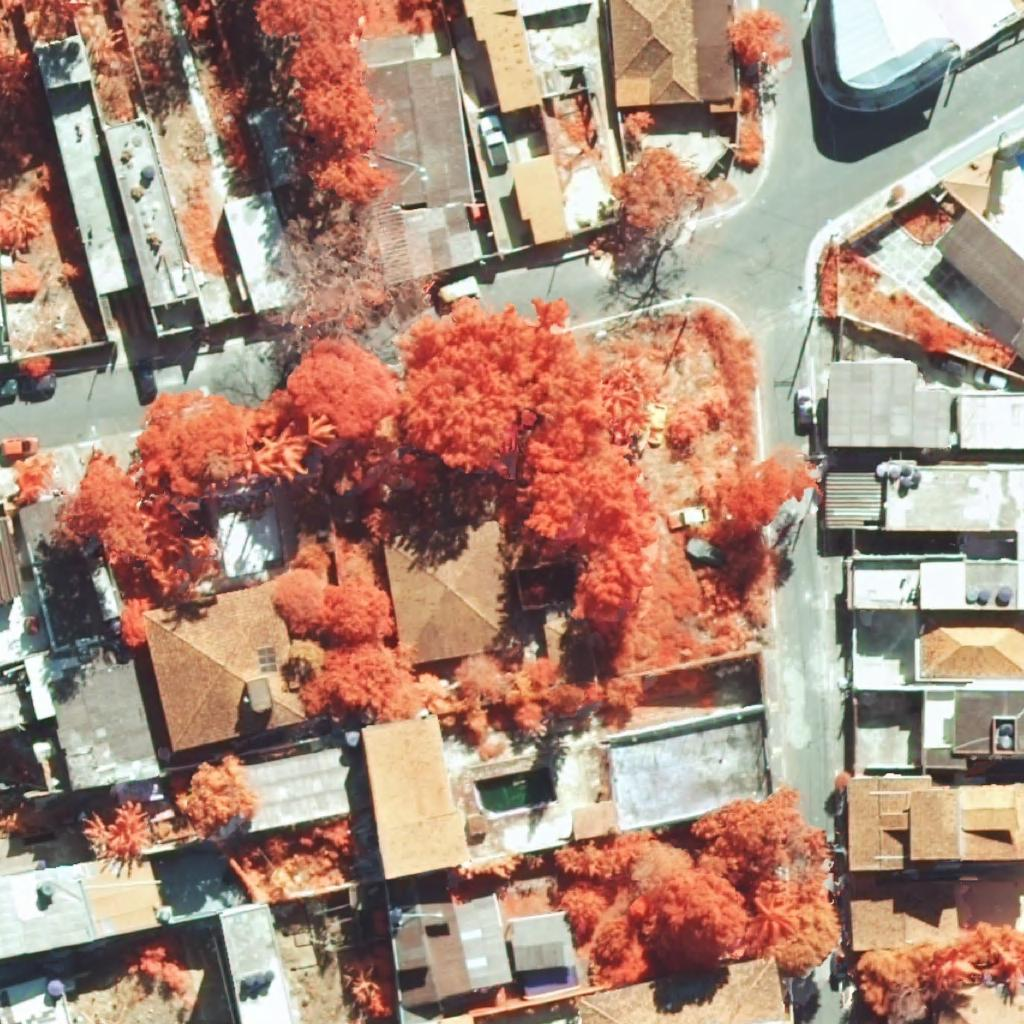pool: (474, 767, 558, 814)
